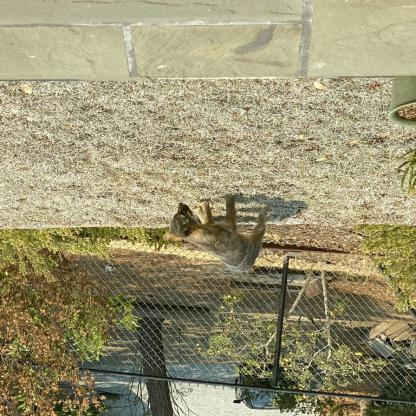zorro: (162, 196, 279, 279)
